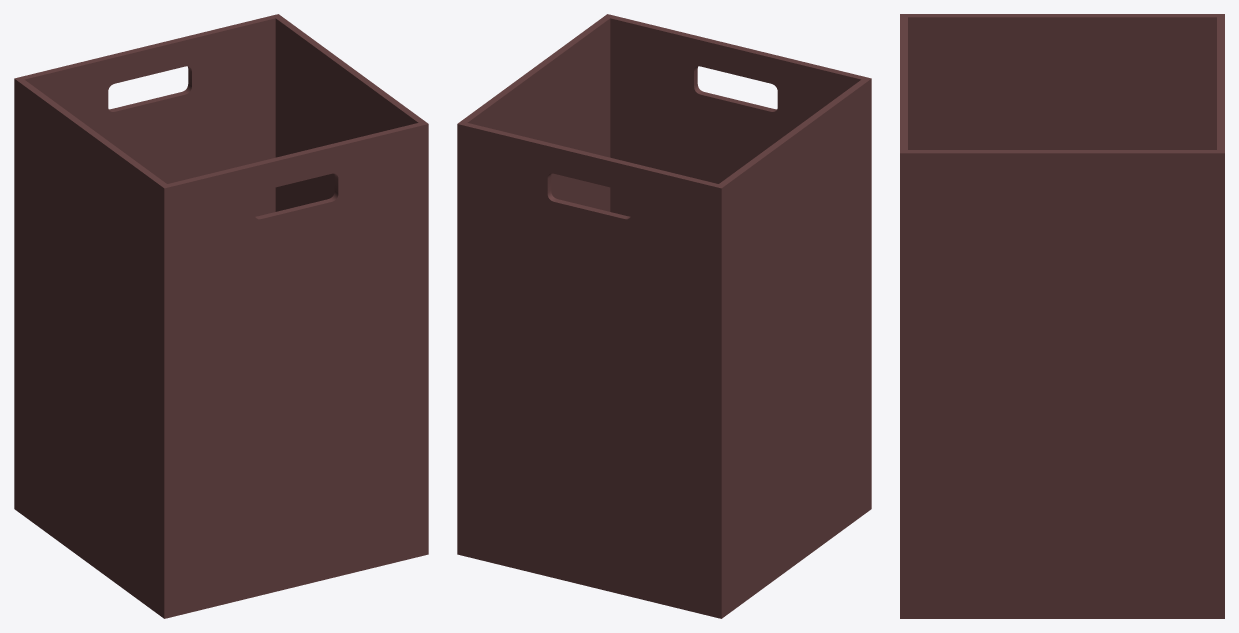
3 renders of one model, left to right at view 1: azimuth 30°, elevation 25°; view 2: azimuth 150°, elevation 25°; view 3: azimuth 270°, elevation 25°, orthographic. The views are drawn at different scales.
Parts seen in each view (by area): view 1: polySurface90; view 2: polySurface90; view 3: polySurface90.
Part boxes in pixels (x1,y1,x2,y2): polySurface90: [14, 14, 428, 618]; polySurface90: [457, 14, 871, 618]; polySurface90: [900, 14, 1224, 618].
Size of the model in its own units: 41.69 by 64.89 by 41.04.
